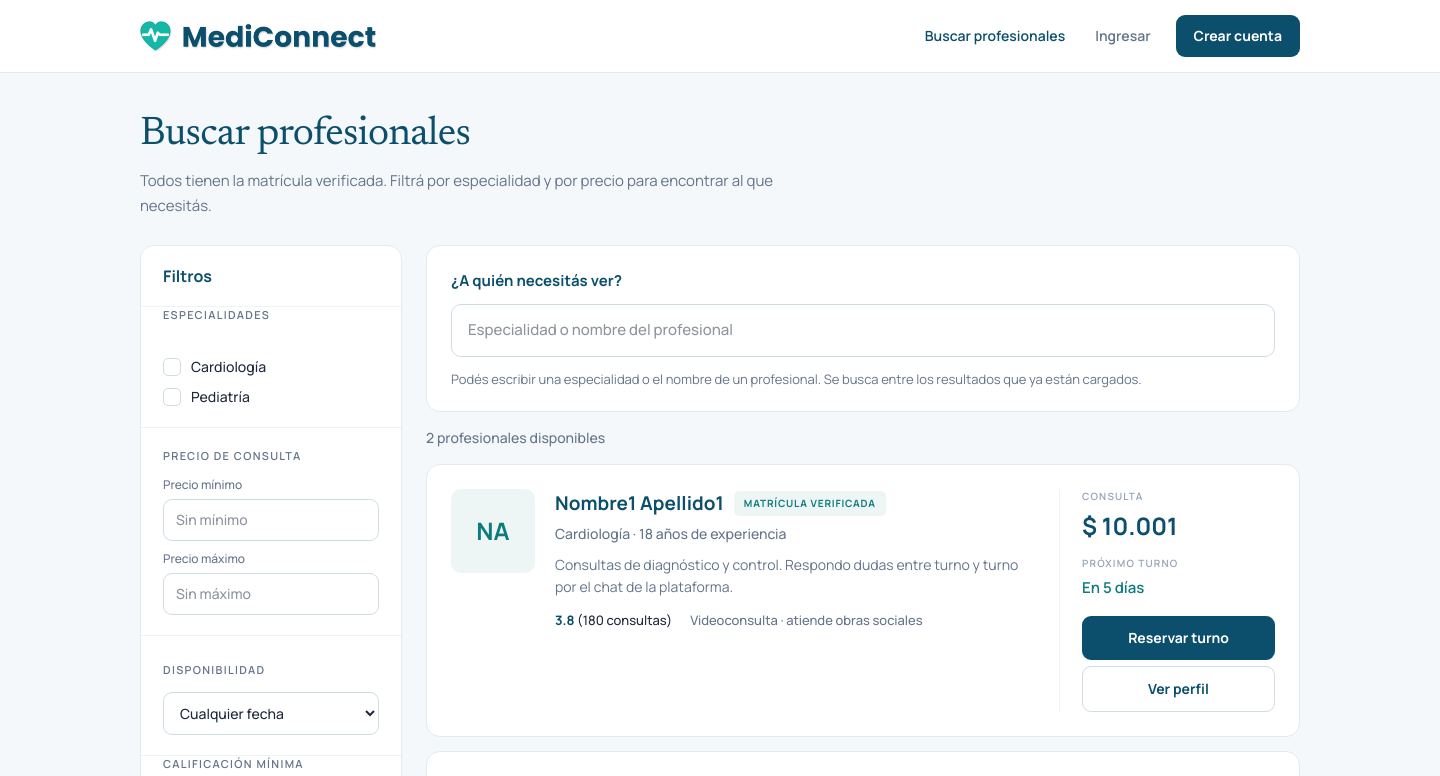
Test: CatalogPage (ENG-49) › filtra por especialidad sin recargar la página
The image size is (1440, 776).
expect the heading "Nombre1 Apellido1" is shown: met, box [555,489,724,518]
Step 1. Click the checkbox labelled "Pediatría" → point(206, 396), box [163,387,250,406]
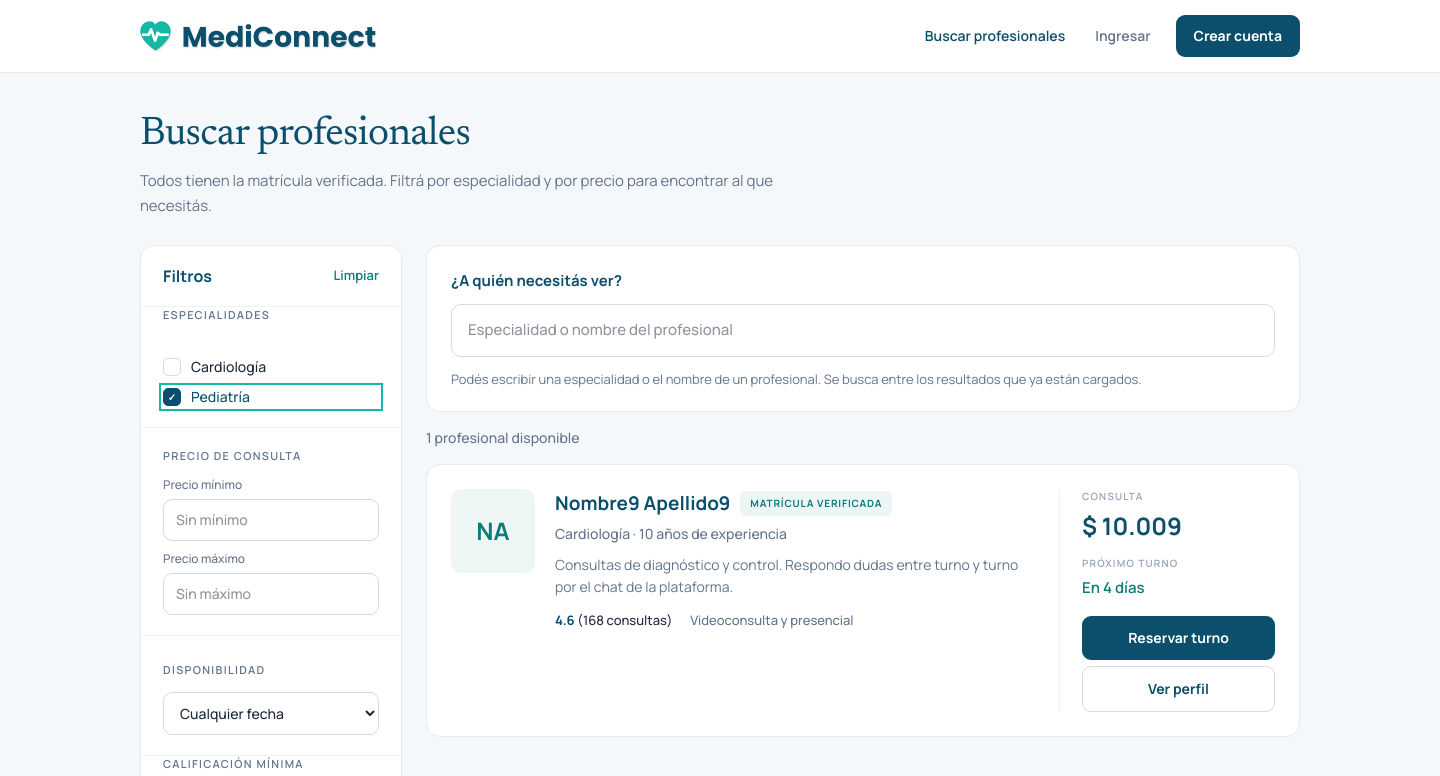
expect the heading "Buscar profesionales" is shown: met, box [140,115,470,155]
expect the heading "Nombre9 Apellido9" is shown: met, box [555,489,730,518]
